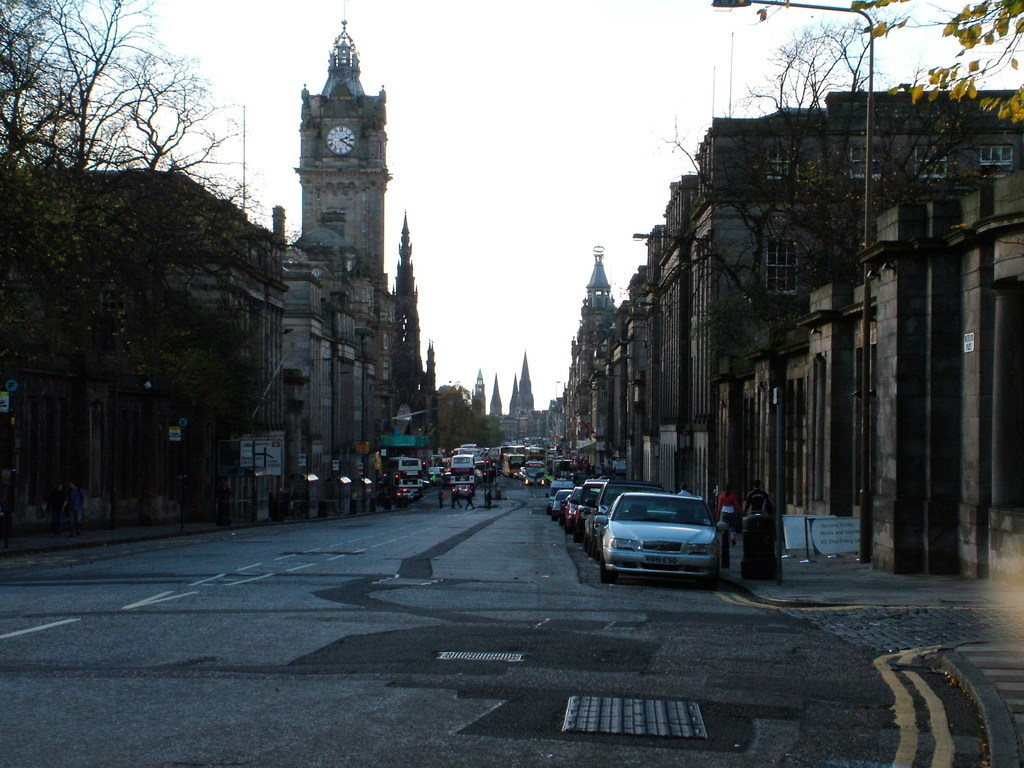Car: (380, 430, 725, 578)
